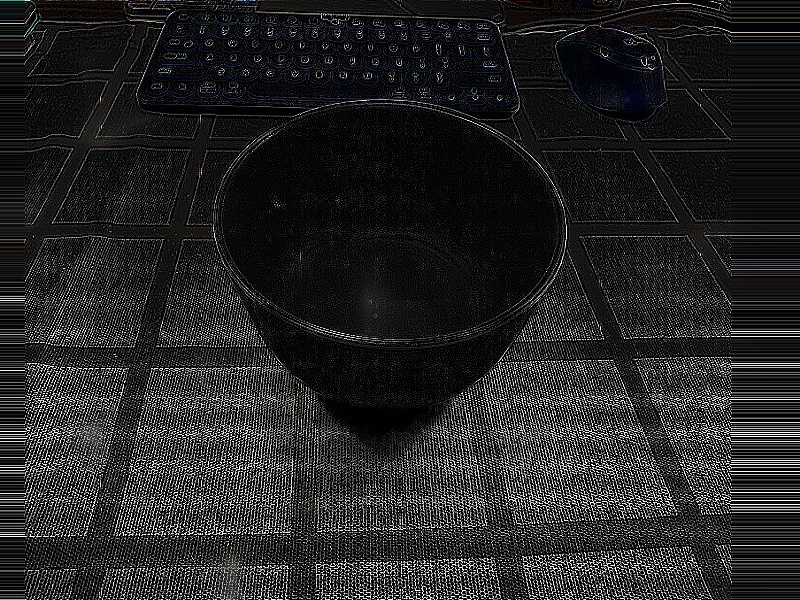bowl_big: (207, 95, 575, 417)
